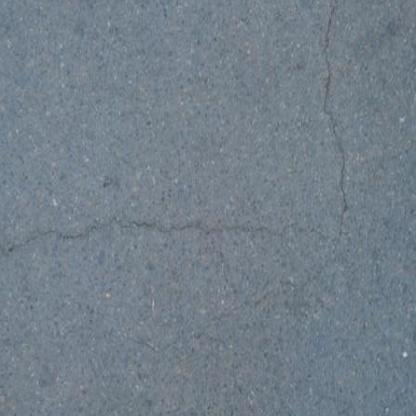Cracks: (0, 208, 408, 284), (303, 0, 378, 244)
